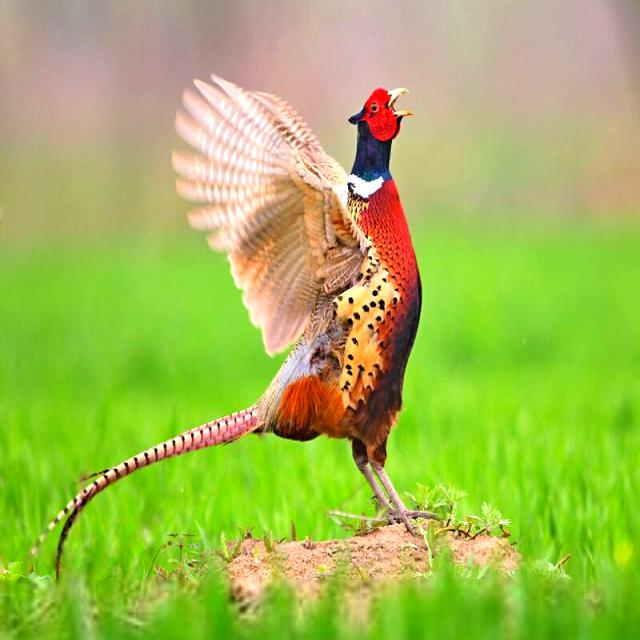Phasianus Colchicus: (30, 405, 258, 583)
